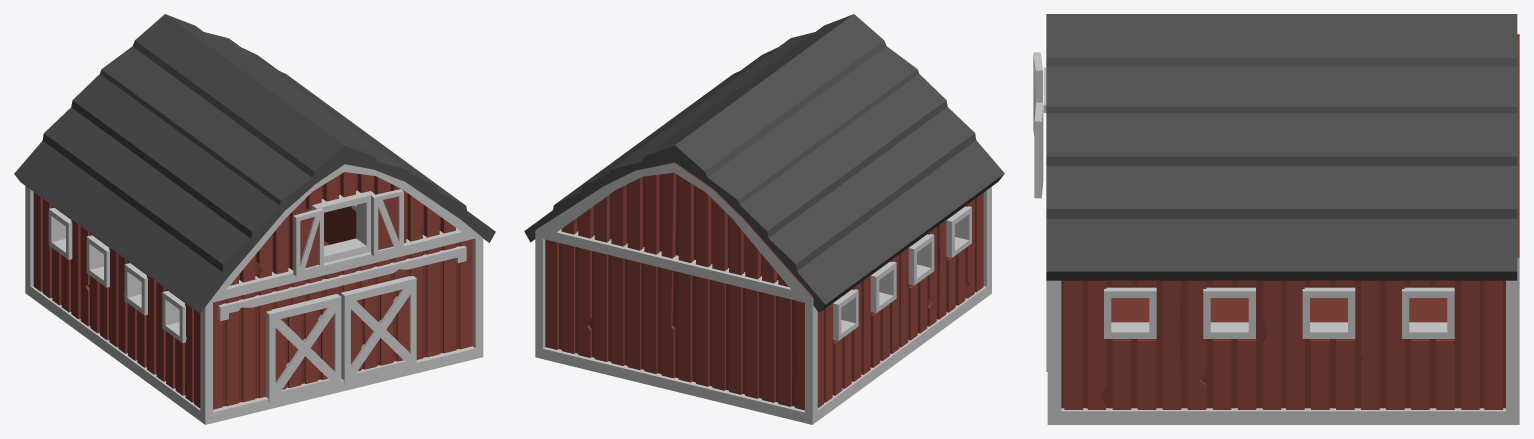
Rendered from barn.glb.
The picture shows the model from 3 angles, left to right: view 1: azimuth 30°, elevation 25°; view 2: azimuth 150°, elevation 25°; view 3: azimuth 270°, elevation 25°; orthographic projection. The views are drawn at different scales.
Parts seen in each view (by area): view 1: Barn_Cube.005; view 2: Barn_Cube.005; view 3: Barn_Cube.005.
Part boxes in pixels (box(x1,y1,x2,y2)): Barn_Cube.005: box(14, 14, 495, 424); Barn_Cube.005: box(524, 14, 1004, 424); Barn_Cube.005: box(1033, 14, 1519, 424).
Bounding box in the file's own units: 7.73 × 6.01 × 8.22.
